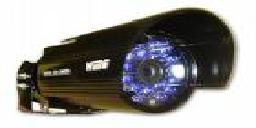LED: (120, 33, 201, 109)
